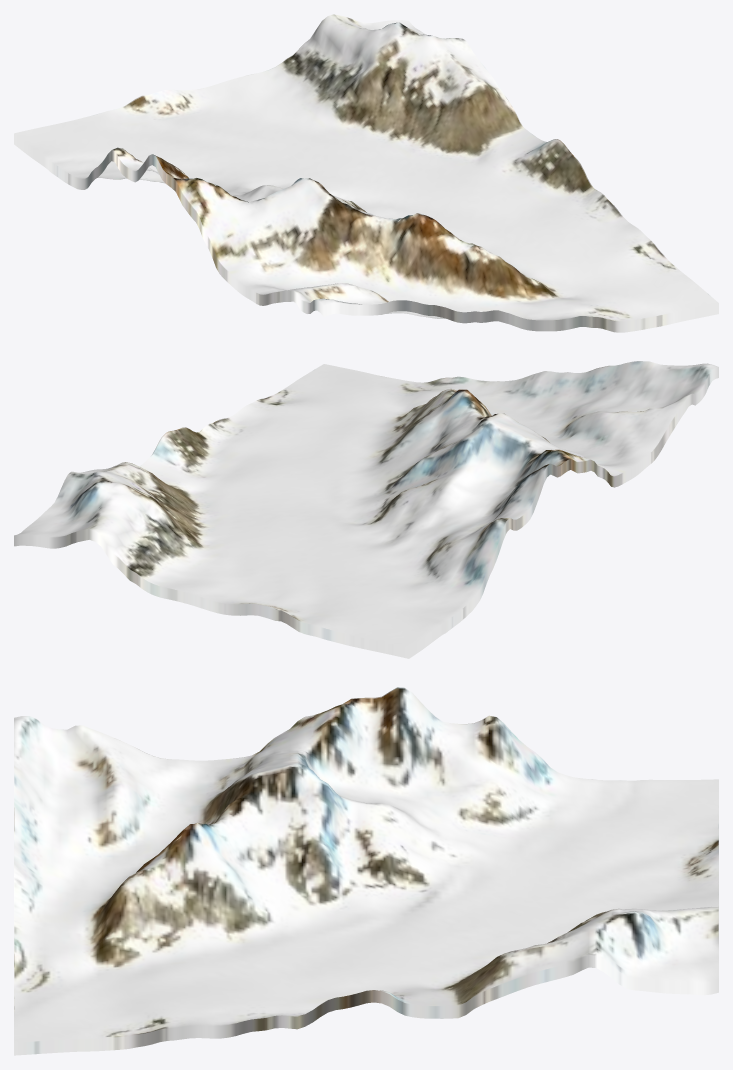
3 renders of one model, top to bottom at view 1: azimuth 30°, elevation 25°; view 2: azimuth 150°, elevation 25°; view 3: azimuth 270°, elevation 25°, orthographic. The views are drawn at different scales.
Visible parts, largest first — view 1: tile; view 2: tile; view 3: tile.
Boxes of the visible parts, left/top/right/bottom form: tile: left=14, top=14, right=718, bottom=332; tile: left=14, top=361, right=718, bottom=658; tile: left=14, top=687, right=718, bottom=1055.
Bounding box in the file's own units: 4050 × 1284 × 5505.
Materials: 1 (1 with a texture image).
